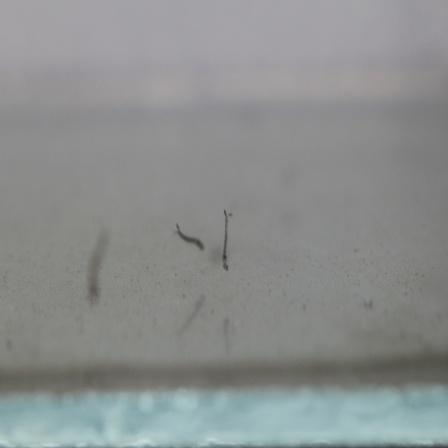Jentik-Nyamuk: (218, 206, 238, 276), (171, 218, 208, 255)
